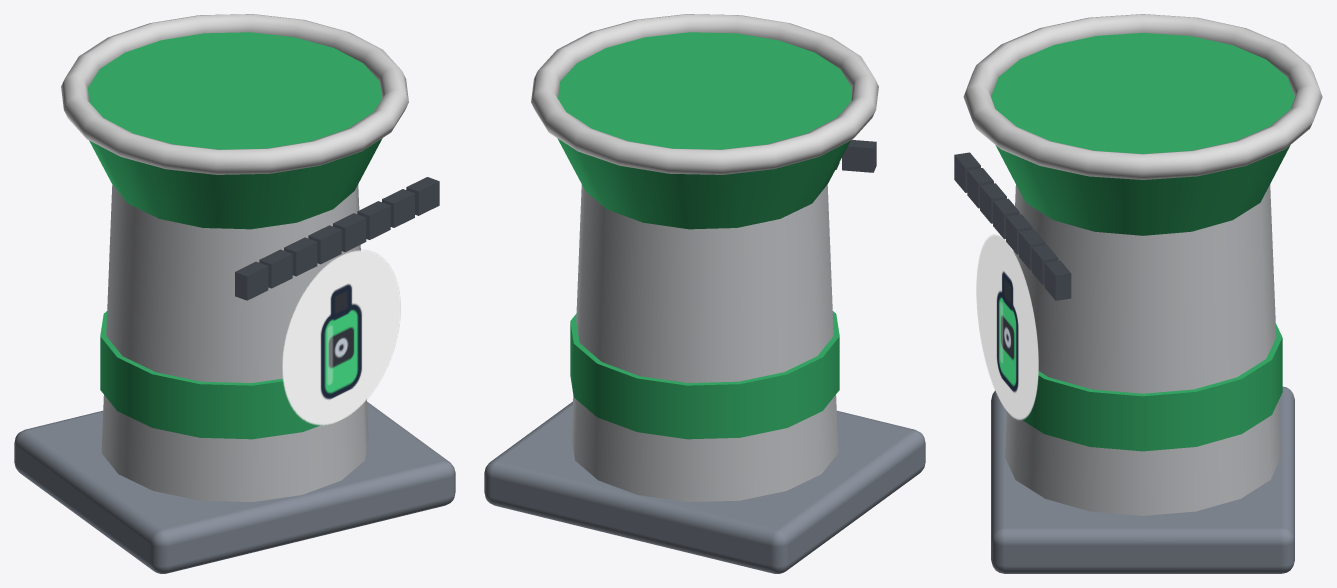
Rendered from hopper_gel.glb.
3 renders of one model, left to right at view 1: azimuth 30°, elevation 25°; view 2: azimuth 150°, elevation 25°; view 3: azimuth 270°, elevation 25°, orthographic. The views are drawn at different scales.
Visible parts, largest first — view 1: Hopper_gel, Icon, Pip0, Pip4, Pip2, Pip1, Pip7, Pip3, Pip5, Pip6; view 2: Hopper_gel, Pip0; view 3: Hopper_gel, Icon, Pip7, Pip6, Pip0, Pip3, Pip1, Pip5, Pip2, Pip4.
Boxes of the visible parts, x1=… form: Hopper_gel: x1=14, y1=14, x2=455, y2=573; Icon: x1=282, y1=250, x2=400, y2=425; Pip0: x1=235, y1=261, x2=268, y2=300; Pip4: x1=333, y1=213, x2=366, y2=252; Pip2: x1=284, y1=237, x2=317, y2=276; Pip1: x1=259, y1=249, x2=292, y2=288; Pip7: x1=406, y1=177, x2=439, y2=215; Pip3: x1=308, y1=225, x2=341, y2=264; Pip5: x1=357, y1=201, x2=390, y2=239; Pip6: x1=382, y1=189, x2=414, y2=227; Hopper_gel: x1=484, y1=14, x2=925, y2=573; Pip0: x1=842, y1=140, x2=876, y2=172; Hopper_gel: x1=963, y1=14, x2=1322, y2=573; Icon: x1=976, y1=234, x2=1038, y2=420; Pip7: x1=1044, y1=260, x2=1071, y2=300; Pip6: x1=1031, y1=245, x2=1058, y2=285; Pip0: x1=954, y1=152, x2=980, y2=192; Pip3: x1=993, y1=198, x2=1019, y2=239; Pip1: x1=967, y1=168, x2=993, y2=208; Pip5: x1=1019, y1=229, x2=1045, y2=269; Pip2: x1=980, y1=183, x2=1006, y2=223; Pip4: x1=1006, y1=214, x2=1032, y2=254.
Bounding box in the file's own units: 1.35 × 1.67 × 1.33.
Materials: 10 (1 with a texture image).
